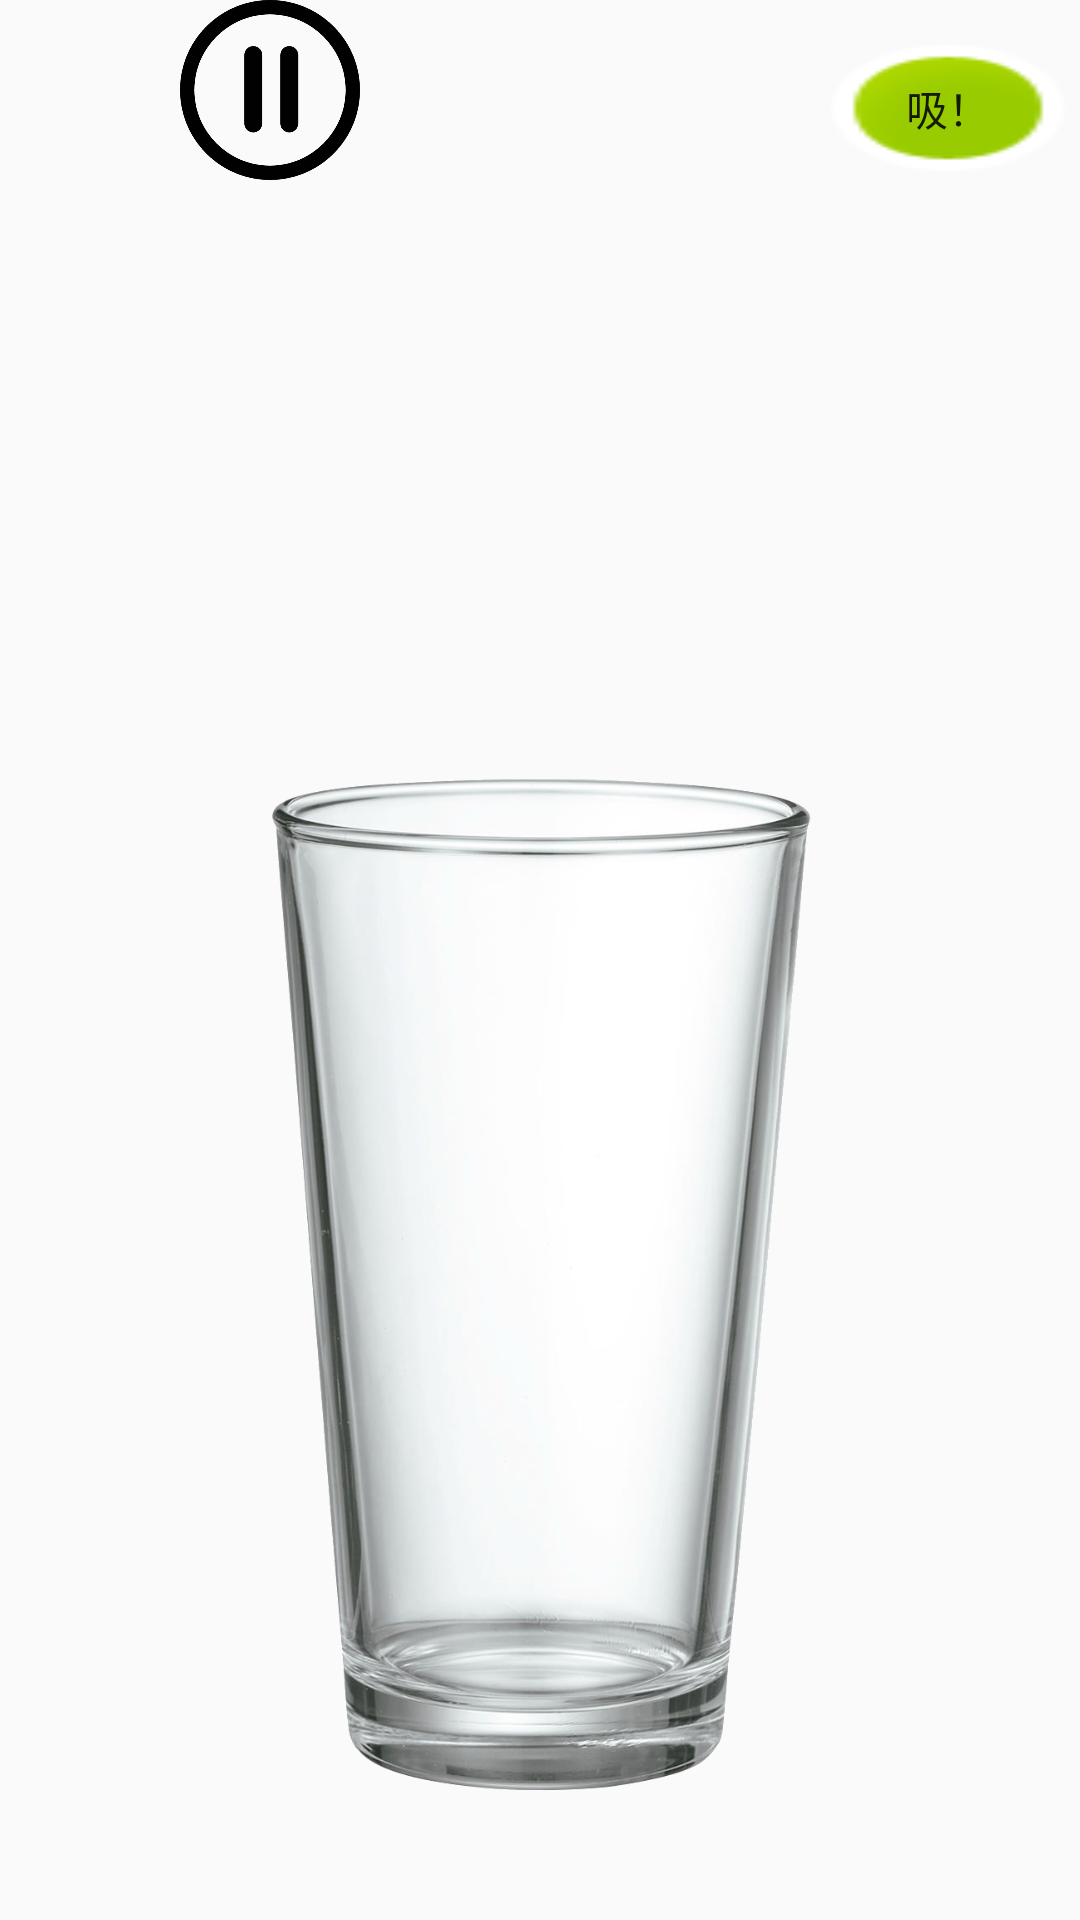

Named icons in this screenshot (1080px x 1920px) and their centers, point (x, y):
pause: point (270, 90)
